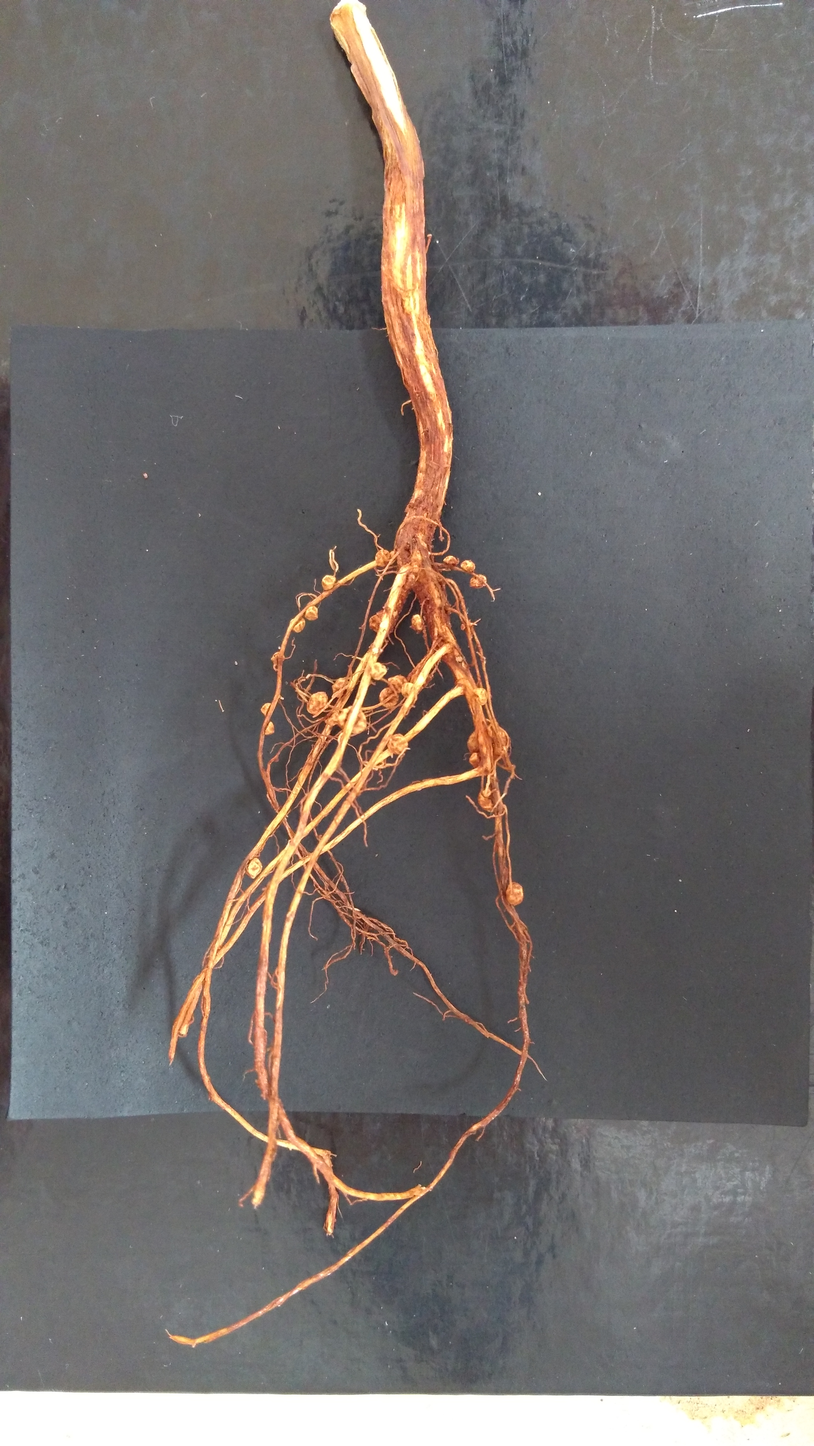nodule: (466, 725, 509, 755), (337, 706, 367, 734), (368, 610, 399, 636), (306, 691, 328, 715), (387, 734, 409, 755), (378, 687, 399, 708), (478, 788, 496, 812), (506, 881, 523, 905), (387, 674, 408, 693), (332, 677, 350, 698), (245, 858, 262, 879), (370, 662, 387, 681), (289, 616, 306, 633), (473, 687, 488, 706), (375, 549, 390, 567), (469, 574, 487, 588), (411, 614, 424, 633), (469, 752, 483, 769), (321, 575, 336, 590), (460, 560, 476, 573), (305, 605, 318, 621), (443, 555, 460, 567), (325, 712, 339, 726), (401, 682, 414, 697), (270, 652, 285, 663), (260, 702, 271, 716), (264, 721, 275, 735), (412, 564, 419, 573), (460, 623, 466, 631), (439, 535, 445, 542), (274, 759, 279, 763)
